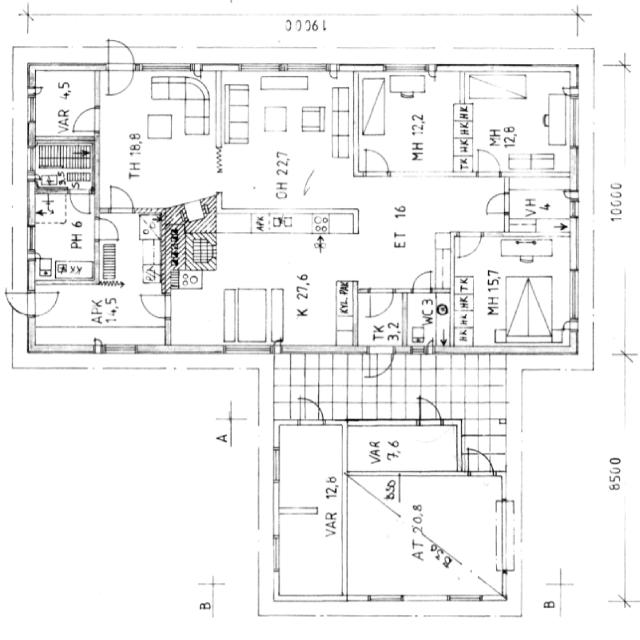door: (34, 131, 98, 189), (102, 36, 138, 99), (105, 180, 138, 216), (137, 290, 173, 322), (365, 286, 396, 322), (295, 394, 327, 428), (361, 145, 393, 178), (69, 103, 102, 134), (413, 395, 445, 426), (29, 288, 62, 318), (474, 146, 504, 178), (368, 346, 395, 380), (5, 289, 39, 316), (66, 187, 95, 216), (464, 448, 494, 476), (94, 214, 122, 242), (455, 230, 482, 259), (182, 76, 208, 106), (482, 190, 511, 216), (410, 268, 434, 294), (558, 318, 582, 334), (326, 62, 342, 82), (424, 62, 439, 81), (30, 84, 46, 97)
window: (493, 498, 513, 572), (563, 90, 583, 148), (566, 266, 582, 322), (137, 60, 193, 75), (222, 341, 272, 357), (172, 342, 225, 356), (280, 60, 328, 75), (238, 60, 282, 74), (269, 445, 284, 485), (382, 61, 428, 74), (98, 342, 140, 356), (402, 592, 448, 603), (270, 533, 282, 573), (367, 592, 404, 604), (25, 93, 38, 125), (25, 224, 38, 253), (24, 144, 36, 175), (448, 593, 483, 603), (567, 195, 581, 217), (345, 592, 371, 603)
zone: (219, 72, 356, 220), (97, 67, 215, 209), (450, 234, 575, 348), (464, 68, 576, 172), (357, 69, 465, 175), (413, 473, 503, 592), (30, 193, 98, 284), (344, 422, 461, 474), (168, 254, 232, 348), (31, 65, 100, 139), (505, 179, 575, 233), (32, 136, 96, 190), (406, 290, 451, 352)
